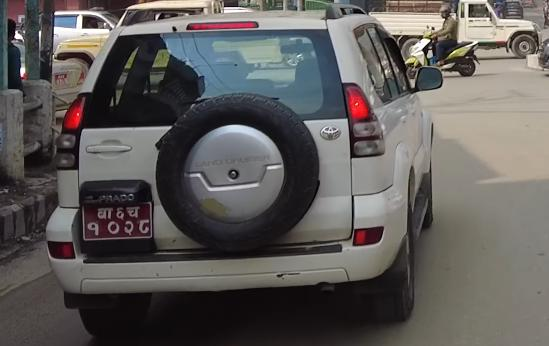SUV: (42, 0, 456, 330)
scooter: (404, 29, 482, 82)
transport_vehicle: (369, 0, 542, 59)
